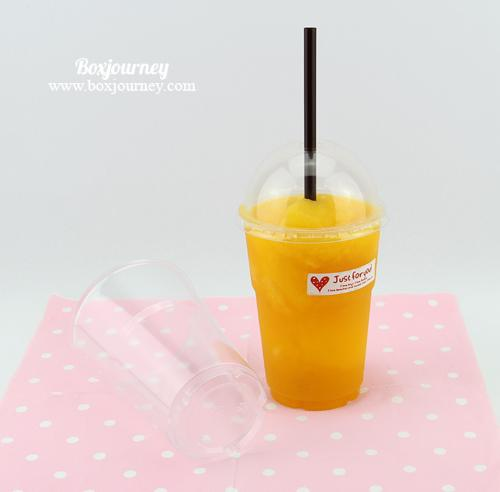plastic_bottle: (236, 142, 392, 414)
